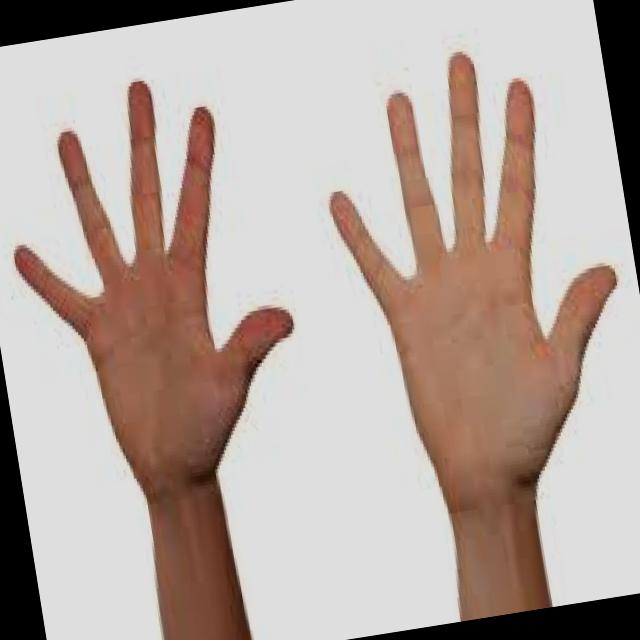Hand: (297, 18, 640, 524), (0, 56, 323, 514)
